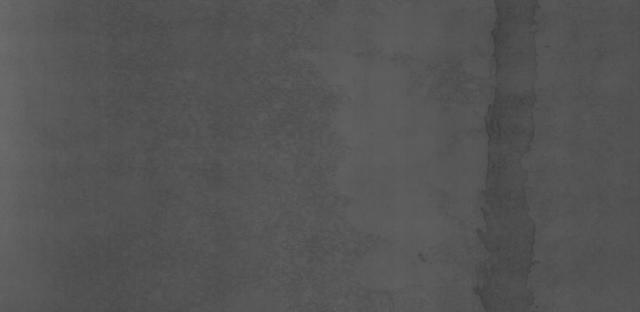water_spot: (447, 2, 550, 304)
